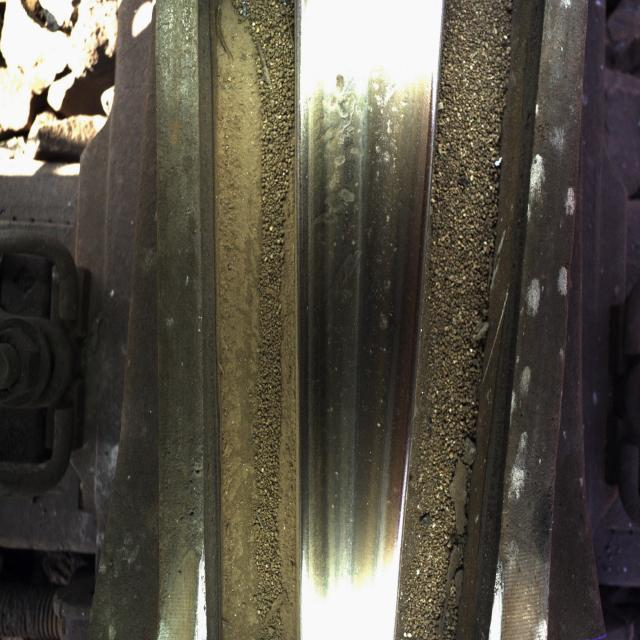crack: (306, 0, 424, 460)
